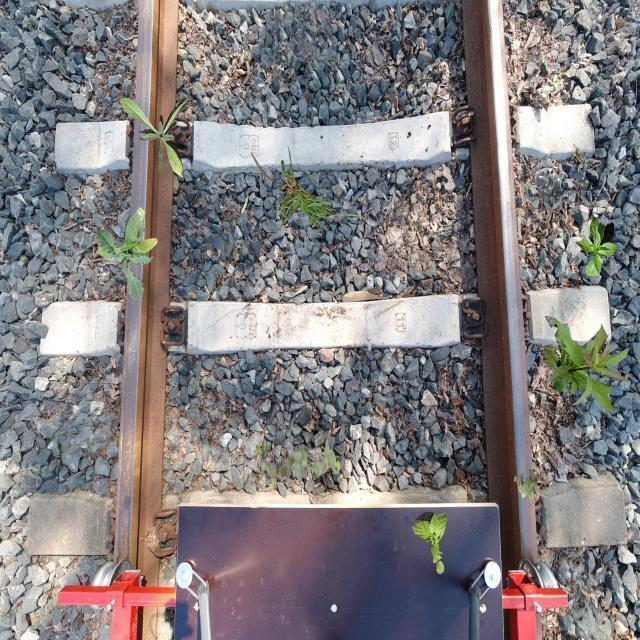Plant: (227, 144, 370, 234), (543, 316, 632, 414), (120, 96, 192, 177), (96, 207, 158, 300), (254, 439, 341, 491), (575, 217, 617, 277), (412, 512, 448, 574), (514, 469, 540, 501)
